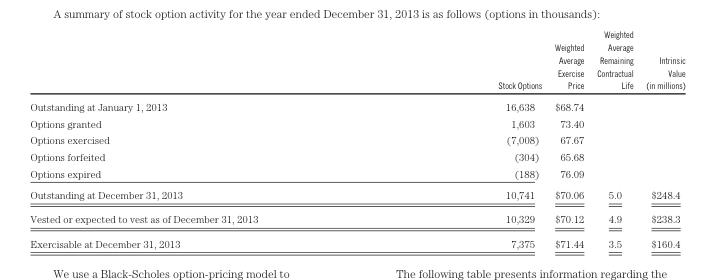table: (29, 28, 684, 248)
table column: (29, 28, 377, 248), (377, 28, 547, 248), (589, 28, 639, 248), (639, 28, 684, 248), (547, 28, 589, 248)
table column header: (29, 28, 684, 95)
table row: (29, 28, 684, 95), (29, 206, 684, 230), (29, 183, 684, 206), (29, 95, 684, 114), (29, 164, 684, 183), (29, 230, 684, 248), (29, 114, 684, 131), (29, 147, 684, 164), (29, 131, 684, 147)
